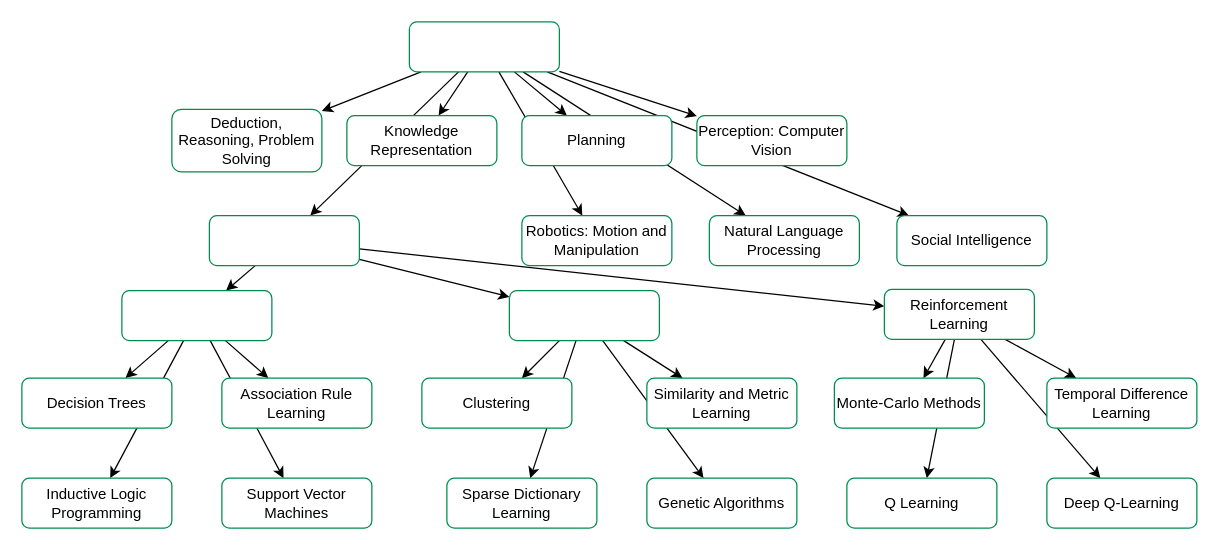
Image size: 1219x550. Some labels were removed from this diagram. Here are the shapes that lost their labels. From the top down, the centre of each, then its label:
At point 483,46: "Artificial Intellgence".
At point 283,240: "Machine Learning".
At point 196,315: "Supervised Learning".
At point 583,315: "Unsupervised Learning".
